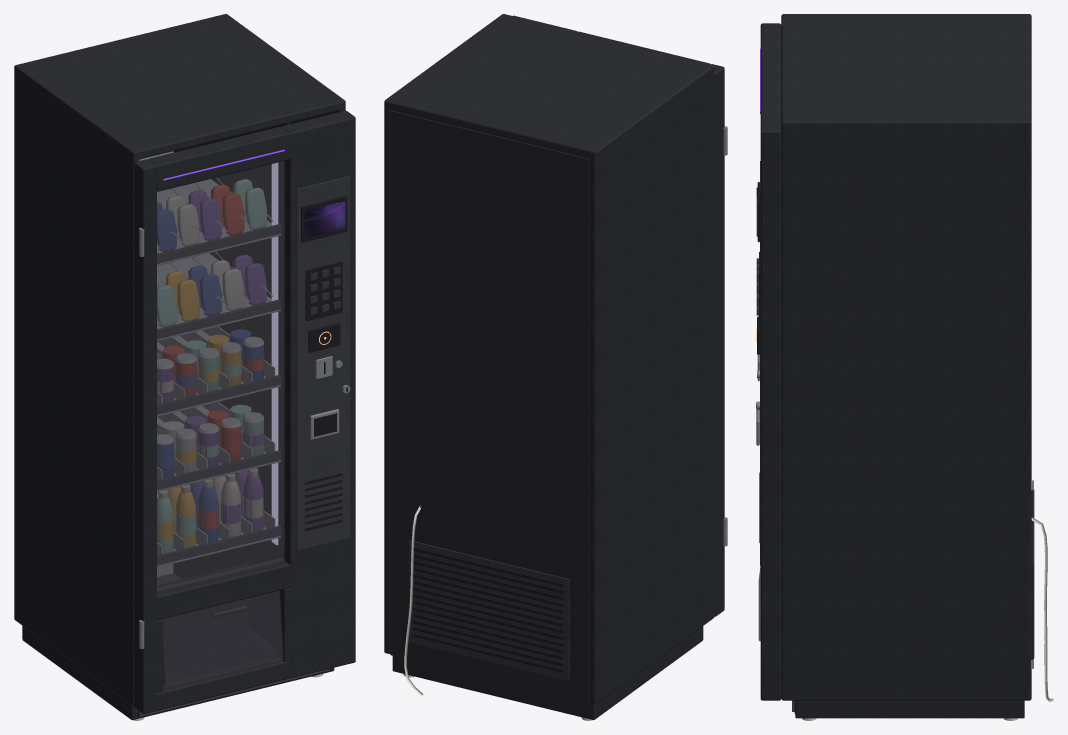
File: vending_machine.glb
The picture shows the model from 3 angles, left to right: view 1: azimuth 30°, elevation 25°; view 2: azimuth 150°, elevation 25°; view 3: azimuth 270°, elevation 25°; orthographic projection. The views are drawn at different scales.
Visible parts, largest first — view 1: cabinet_graphite_0, glass_glass_tint_0, door_graphite_0, door_alloy_dark_1, flap_glass_smoked_0, cabinet_plastic_dark_3, door_plastic_dark_3, cabinet_led_white_2, shelf_2_steel_brushed_0, shelf_3_steel_brushed_0, stock_1_plastic_white_2, shelf_4_steel_brushed_0 (+34 smaller); view 2: cabinet_graphite_0, cabinet_alloy_dark_4, cabinet_plastic_dark_3, door_graphite_0, cabinet_rubber_5; view 3: cabinet_graphite_0, door_graphite_0, cabinet_rubber_5, cabinet_plastic_dark_3, door_alloy_dark_1.
Part boxes in pixels (left/top/right/bottom): cabinet_graphite_0: left=14, top=14, right=345, bottom=719; glass_glass_tint_0: left=157, top=161, right=284, bottom=591; door_graphite_0: left=134, top=110, right=355, bottom=713; door_alloy_dark_1: left=296, top=176, right=350, bottom=550; flap_glass_smoked_0: left=162, top=590, right=283, bottom=688; cabinet_plastic_dark_3: left=138, top=563, right=328, bottom=717; door_plastic_dark_3: left=301, top=195, right=347, bottom=531; cabinet_led_white_2: left=271, top=162, right=278, bottom=544; shelf_2_steel_brushed_0: left=157, top=402, right=280, bottom=491; shelf_3_steel_brushed_0: left=157, top=326, right=280, bottom=416; stock_1_plastic_white_2: left=159, top=468, right=263, bottom=537; shelf_4_steel_brushed_0: left=157, top=251, right=280, bottom=341; cabinet_graphite_0: left=384, top=14, right=714, bottom=719; cabinet_alloy_dark_4: left=408, top=540, right=569, bottom=681; cabinet_plastic_dark_3: left=413, top=548, right=563, bottom=672; door_graphite_0: left=513, top=15, right=724, bottom=616; cabinet_rubber_5: left=403, top=505, right=593, bottom=720; cabinet_graphite_0: left=781, top=14, right=1031, bottom=718; door_graphite_0: left=760, top=23, right=781, bottom=700; cabinet_rubber_5: left=802, top=517, right=1053, bottom=720; cabinet_plastic_dark_3: left=794, top=490, right=1034, bottom=713; door_alloy_dark_1: left=756, top=161, right=760, bottom=565.
Size of what is drawn, in the model's own units: 0.75 by 1.92 by 0.857.
Materials: 20 (13 with a texture image).
